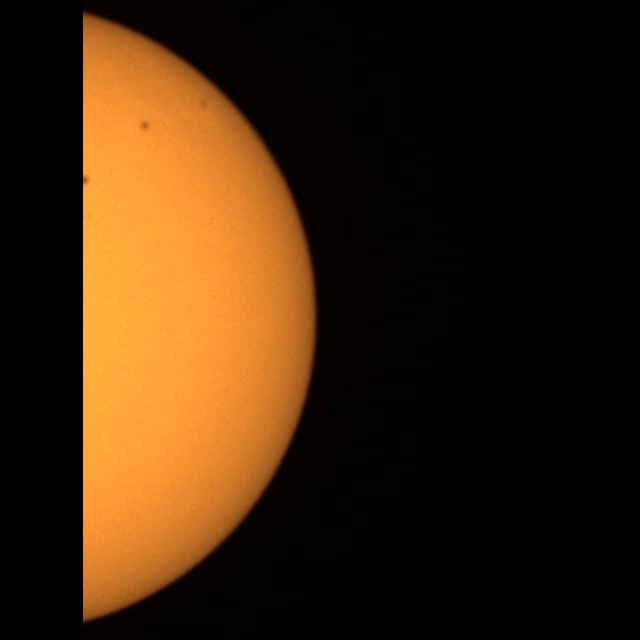sunspot: (138, 119, 151, 134), (198, 98, 209, 112), (82, 171, 91, 188)
